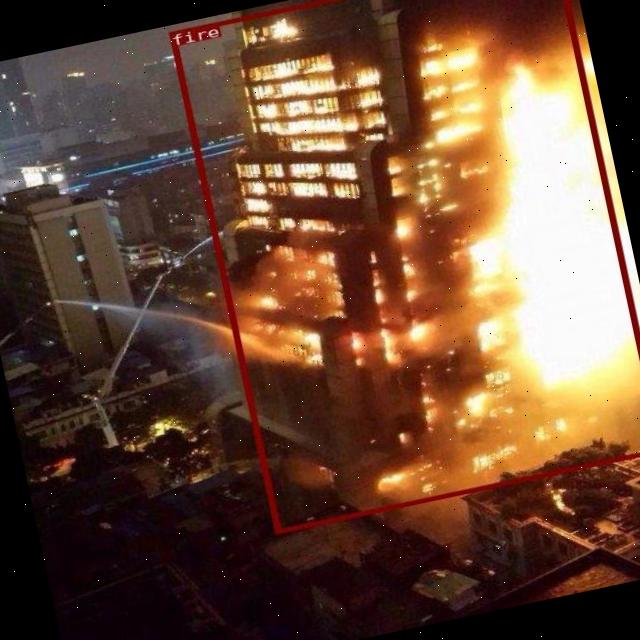fire: (167, 0, 640, 532)
